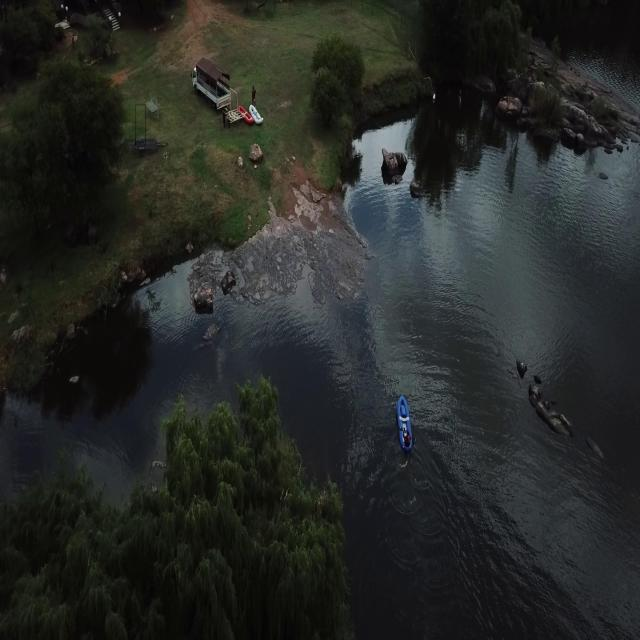kayak: (392, 395, 416, 457)
